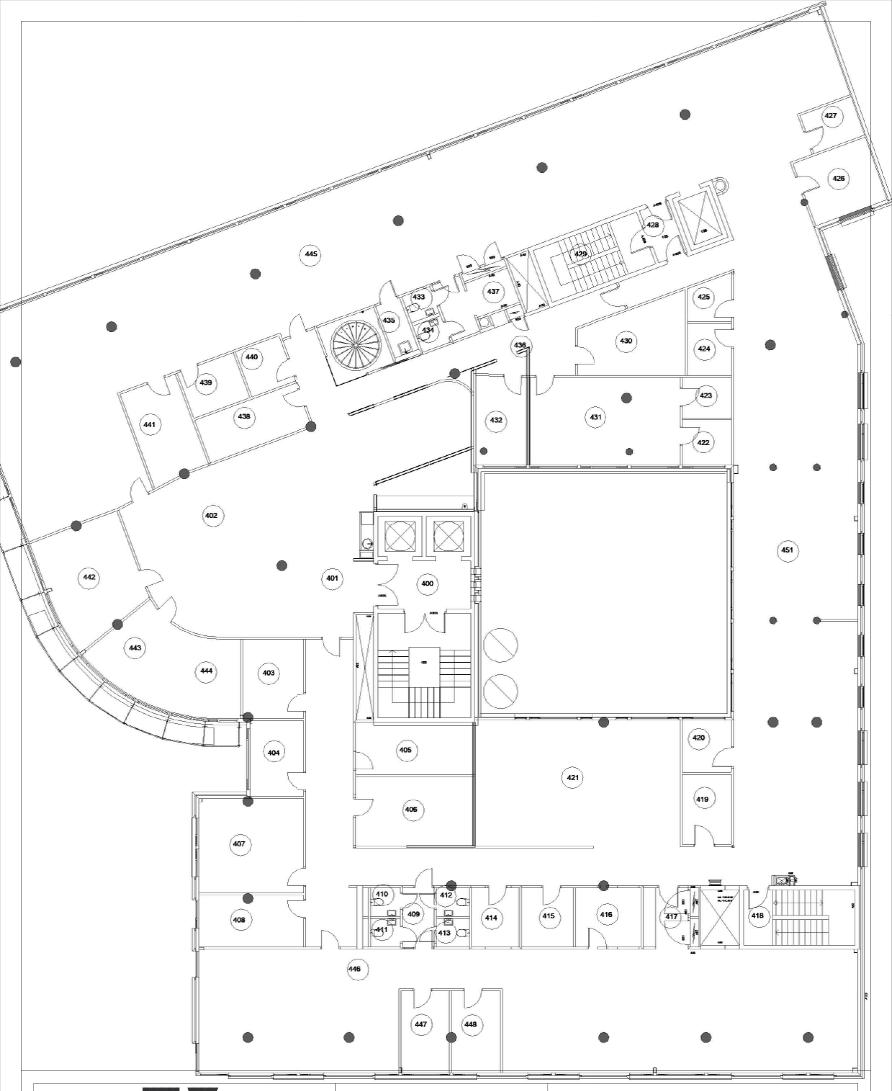room: (197, 948, 860, 1077), (475, 715, 680, 847), (529, 376, 682, 467), (375, 611, 474, 720), (196, 796, 305, 892), (354, 775, 474, 847), (742, 887, 858, 947), (354, 720, 474, 776), (786, 153, 883, 218), (196, 892, 305, 949), (241, 639, 305, 720), (474, 373, 528, 467), (376, 512, 472, 559), (360, 887, 435, 947), (399, 988, 451, 1073), (248, 720, 305, 797), (451, 988, 502, 1073), (574, 886, 642, 948), (681, 773, 732, 845), (643, 886, 700, 946), (521, 887, 574, 947), (470, 887, 521, 947), (681, 718, 733, 774), (687, 322, 733, 376), (686, 270, 733, 321), (682, 419, 732, 465), (682, 376, 732, 419), (435, 917, 470, 948), (435, 887, 470, 917)
